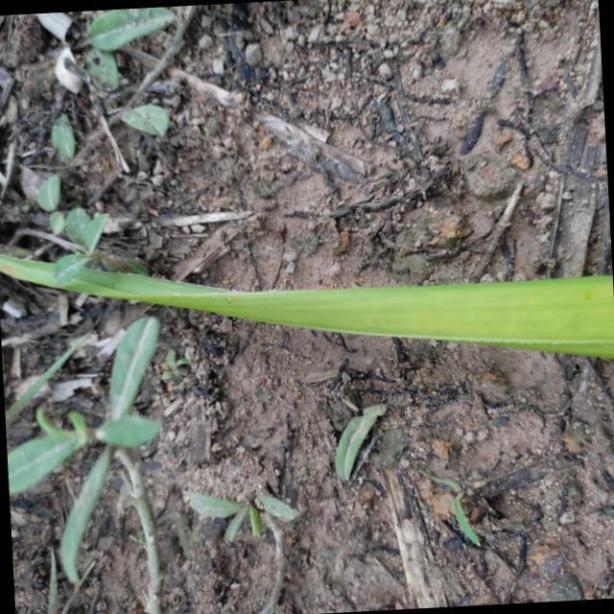nitrogen: (7, 245, 614, 360)
